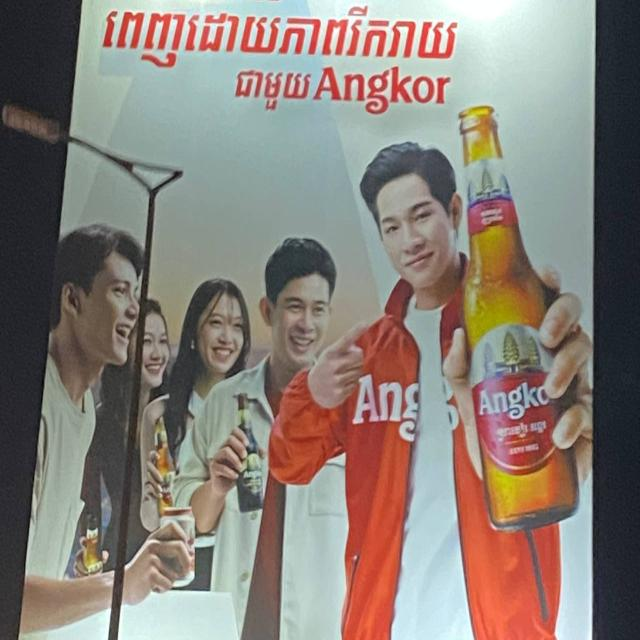Yolov11kh: (99, 2, 460, 75), (232, 63, 317, 116)
